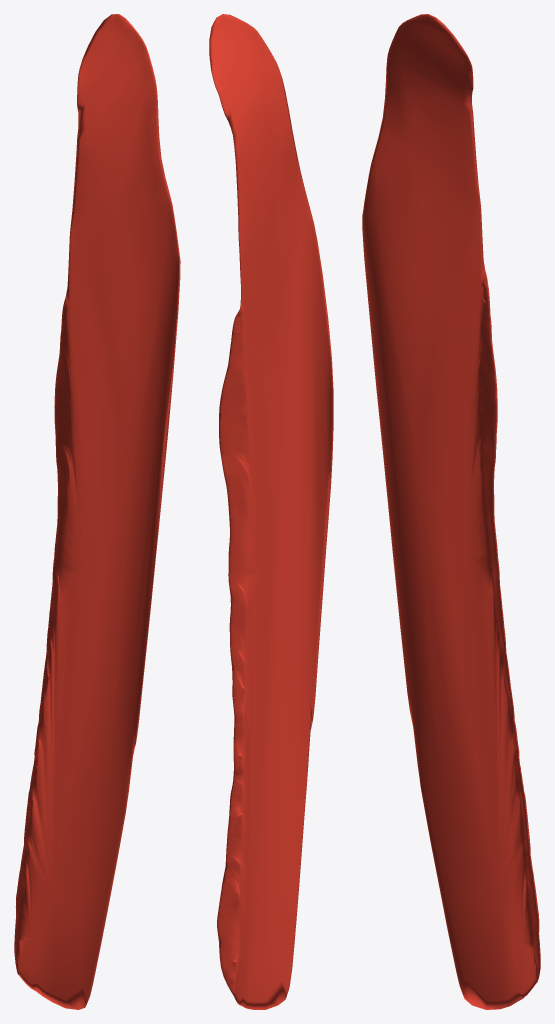
Rendered from Tibialis_anterior_lateral_surface_tibia_left.glb.
3 views of the same model, side by side, from view 1: azimuth 90°, elevation 25°; view 2: azimuth 150°, elevation 25°; view 3: azimuth 270°, elevation 25° (orthographic). The views are drawn at different scales.
Visible parts, largest first — view 1: Tibialis_anterior_on_lateral_surface_of_tibia.l_Generated_Me; view 2: Tibialis_anterior_on_lateral_surface_of_tibia.l_Generated_Me; view 3: Tibialis_anterior_on_lateral_surface_of_tibia.l_Generated_Me.
Part boxes in pixels (box(x1,y1,x2,y2)): Tibialis_anterior_on_lateral_surface_of_tibia.l_Generated_Me: box(14, 14, 180, 1009); Tibialis_anterior_on_lateral_surface_of_tibia.l_Generated_Me: box(209, 14, 333, 1009); Tibialis_anterior_on_lateral_surface_of_tibia.l_Generated_Me: box(362, 14, 540, 1009).
Bounding box in the file's own units: 0.0239 × 0.2352 × 0.0369.
